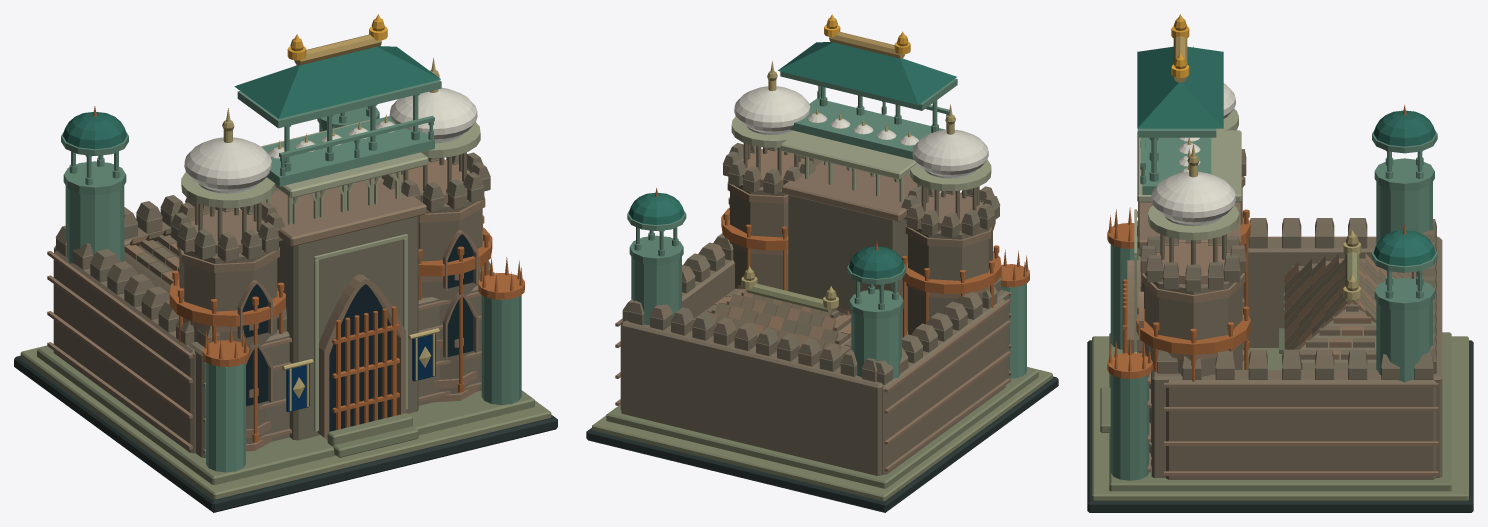
3 views of the same model, side by side, from view 1: azimuth 30°, elevation 25°; view 2: azimuth 150°, elevation 25°; view 3: azimuth 270°, elevation 25° (orthographic). The views are drawn at different scales.
Visible parts, largest first — view 1: barracks_L7_0, barracks_L7_1; view 2: barracks_L7_0, barracks_L7_1; view 3: barracks_L7_0, barracks_L7_1.
Part boxes in pixels (x1=…): barracks_L7_0: x1=14, y1=18, x2=557, y2=512; barracks_L7_1: x1=93, y1=14, x2=524, y2=442; barracks_L7_0: x1=586, y1=18, x2=1058, y2=512; barracks_L7_1: x1=655, y1=14, x2=1029, y2=337; barracks_L7_0: x1=1087, y1=18, x2=1473, y2=512; barracks_L7_1: x1=1107, y1=14, x2=1406, y2=381.
Bounding box in the file's own units: 5.6 × 6.38 × 5.6.
